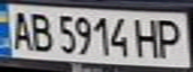1: (90, 14, 112, 56)
4: (109, 15, 133, 58)
5: (51, 11, 75, 55)
9: (72, 14, 93, 56)
A: (6, 7, 36, 52)
B: (27, 9, 54, 53)
H: (133, 15, 163, 60)
P: (154, 16, 187, 60)
